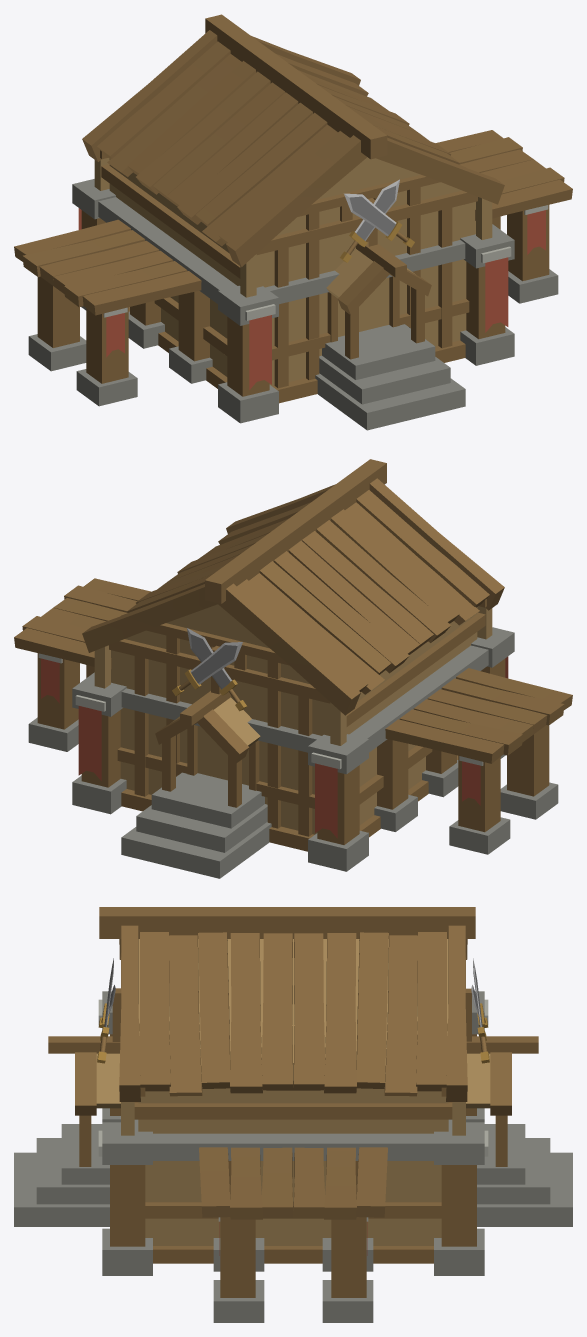
File: Barracks-a1C1L8gJTX.glb
3 views of the same model, one above another, from view 1: azimuth 30°, elevation 25°; view 2: azimuth 150°, elevation 25°; view 3: azimuth 270°, elevation 25° (orthographic). The views are drawn at different scales.
Parts seen in each view (by area): view 1: Barracks-a1C1L8gJTX; view 2: Barracks-a1C1L8gJTX; view 3: Barracks-a1C1L8gJTX.
Boxes of the visible parts, x1,y1,x2,y2 form: Barracks-a1C1L8gJTX: [14, 14, 572, 430]; Barracks-a1C1L8gJTX: [14, 459, 572, 878]; Barracks-a1C1L8gJTX: [14, 907, 572, 1322].
Size of the model in its own units: 1.79 by 0.8924 by 1.57.
